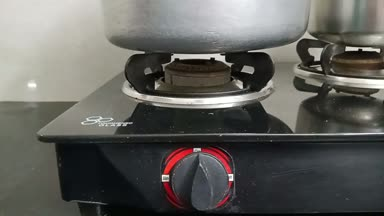noflame_gason: (135, 53, 255, 212)
